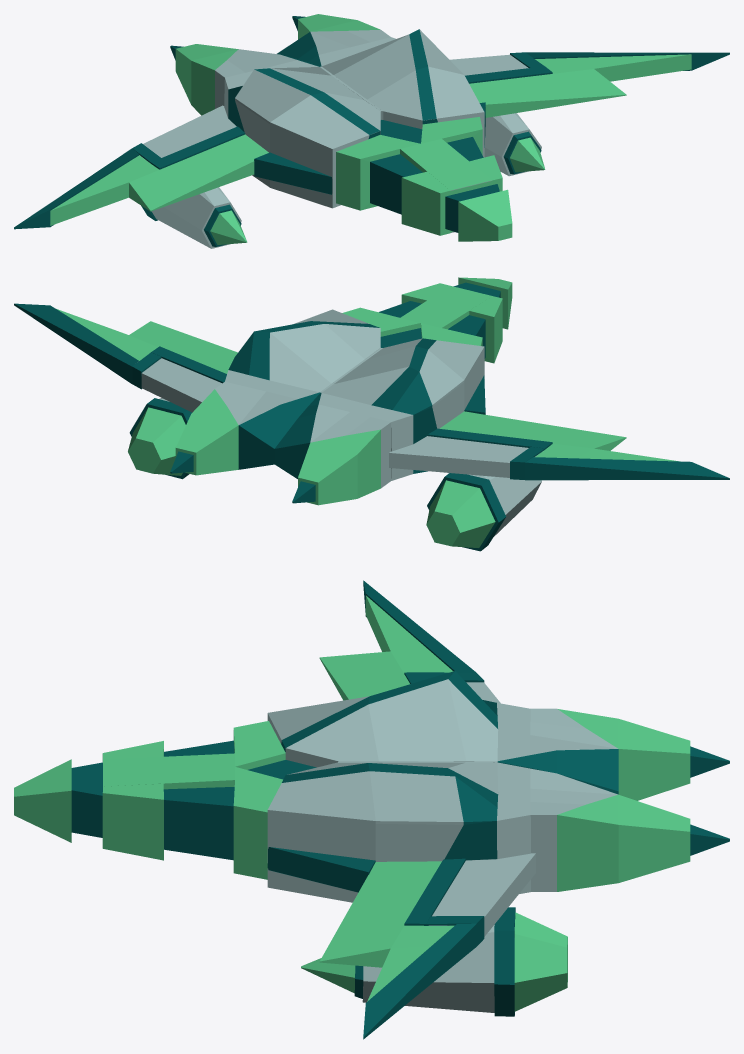
Rendered from JupiterVerde.fbx.
3 views of the same model, one above another, from view 1: azimuth 30°, elevation 25°; view 2: azimuth 150°, elevation 25°; view 3: azimuth 270°, elevation 25° (orthographic). The views are drawn at different scales.
Visible parts, largest first — view 1: Jupiter; view 2: Jupiter; view 3: Jupiter.
Part boxes in pixels (x1=…): Jupiter: x1=14, y1=14, x2=729, y2=248; Jupiter: x1=14, y1=277, x2=729, y2=551; Jupiter: x1=14, y1=580, x2=729, y2=1039.
Size of the model in its own units: 709 by 135 by 469.
